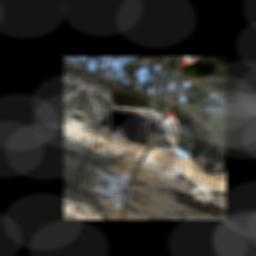Woodpecker: (82, 78, 189, 161)
